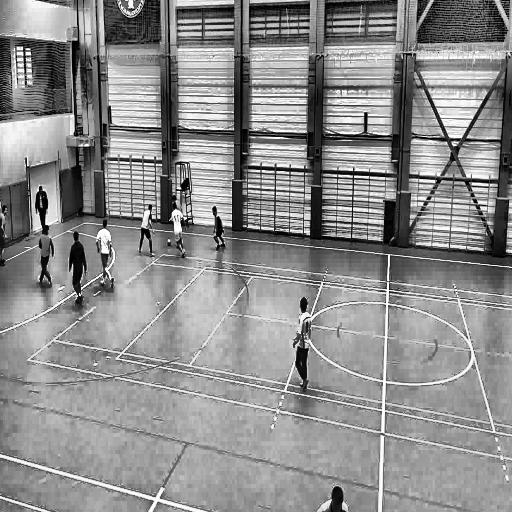ball: (165, 236, 173, 249)
player: (292, 296, 312, 394), (68, 229, 88, 307), (95, 218, 115, 292), (167, 202, 188, 260), (36, 224, 54, 289), (312, 485, 350, 512), (138, 202, 155, 257), (212, 204, 227, 254), (0, 202, 11, 268), (36, 183, 48, 233), (172, 193, 182, 213)
